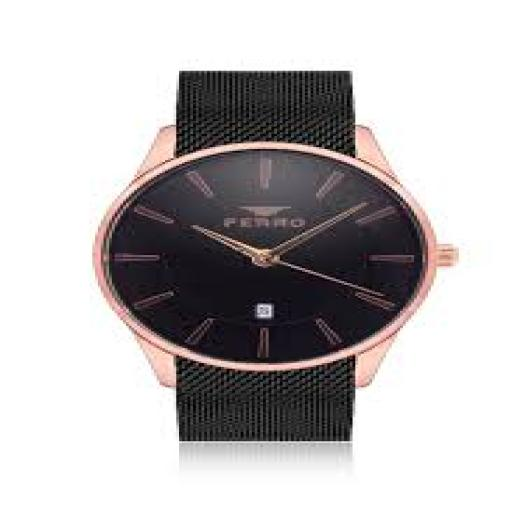KolSaati: (53, 47, 455, 465)
